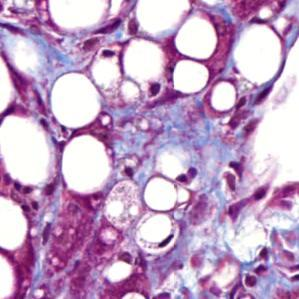steatosis: (1, 114, 50, 186), (235, 15, 284, 84), (58, 135, 115, 193), (46, 73, 101, 128), (175, 14, 222, 57), (126, 36, 164, 86), (170, 58, 210, 95), (144, 177, 180, 214), (139, 213, 176, 249), (211, 75, 237, 114)
